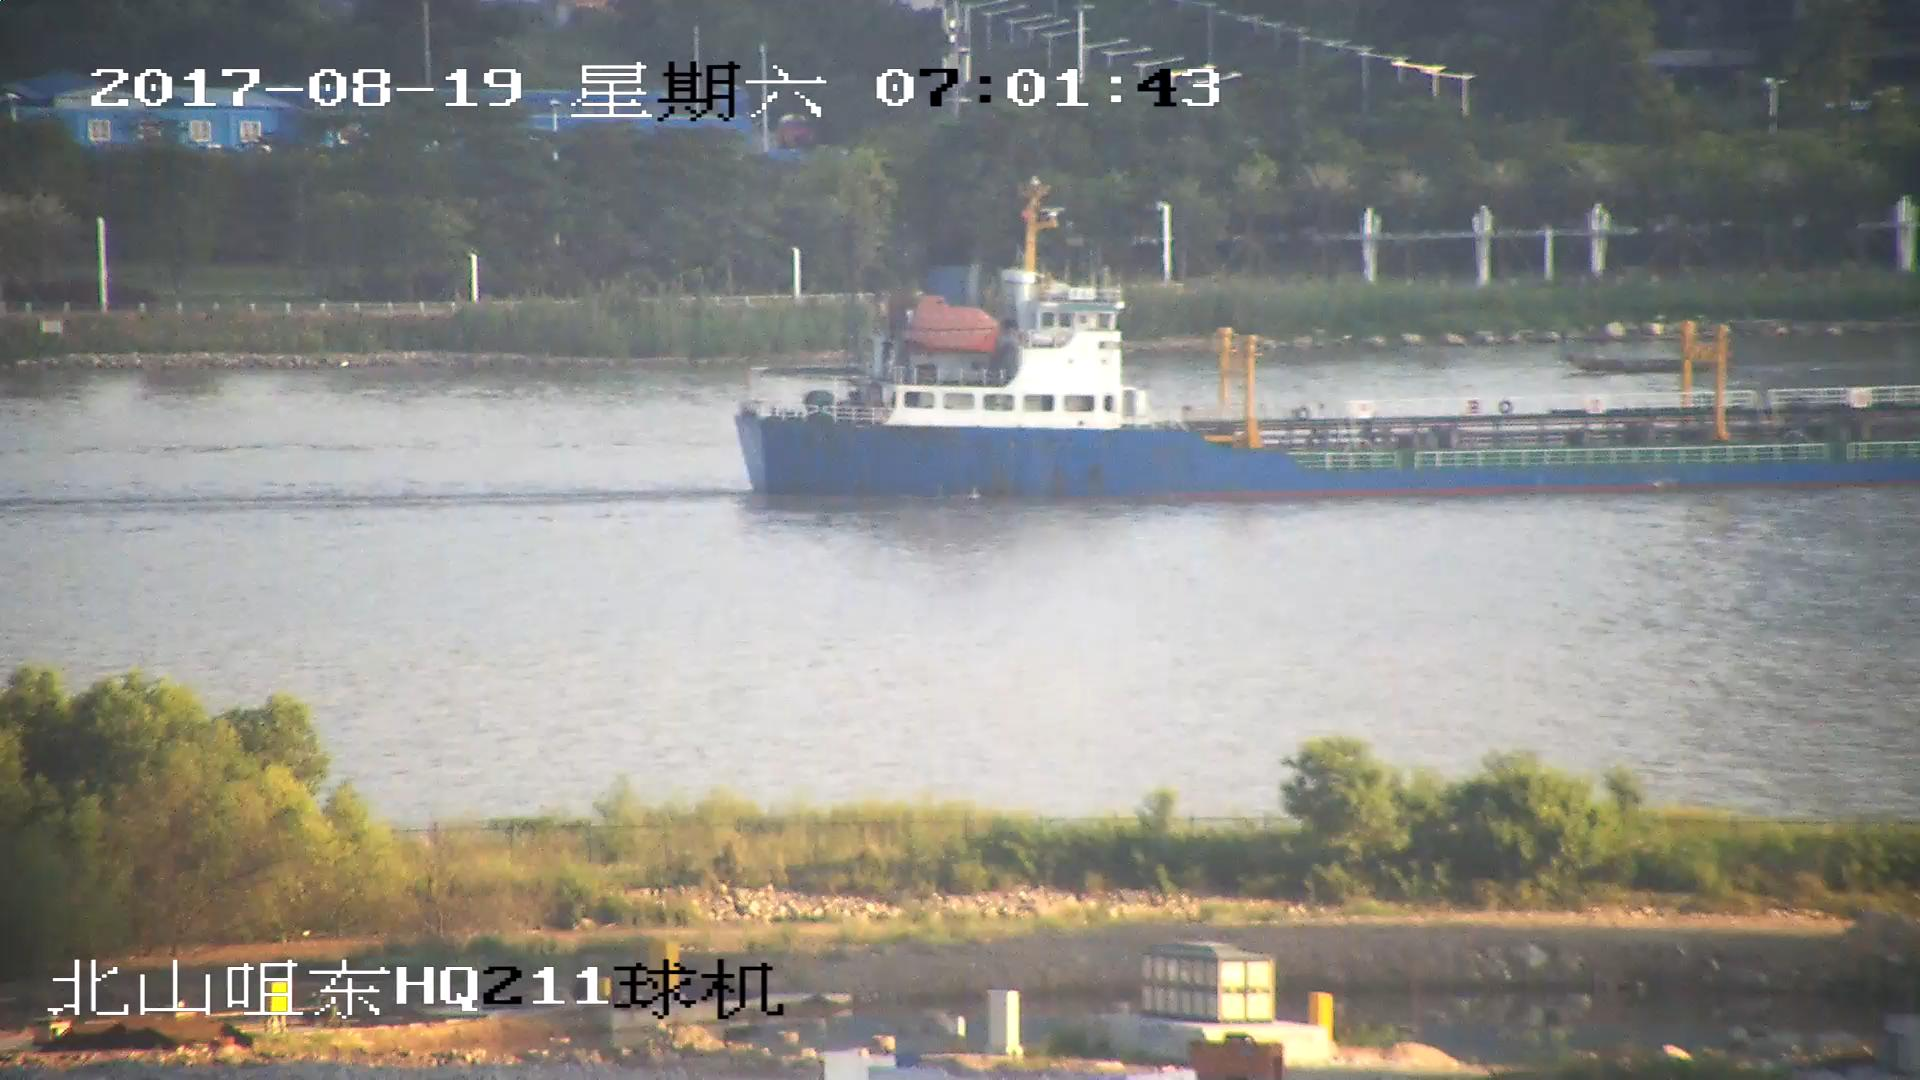general cargo ship: (740, 201, 1920, 496)
